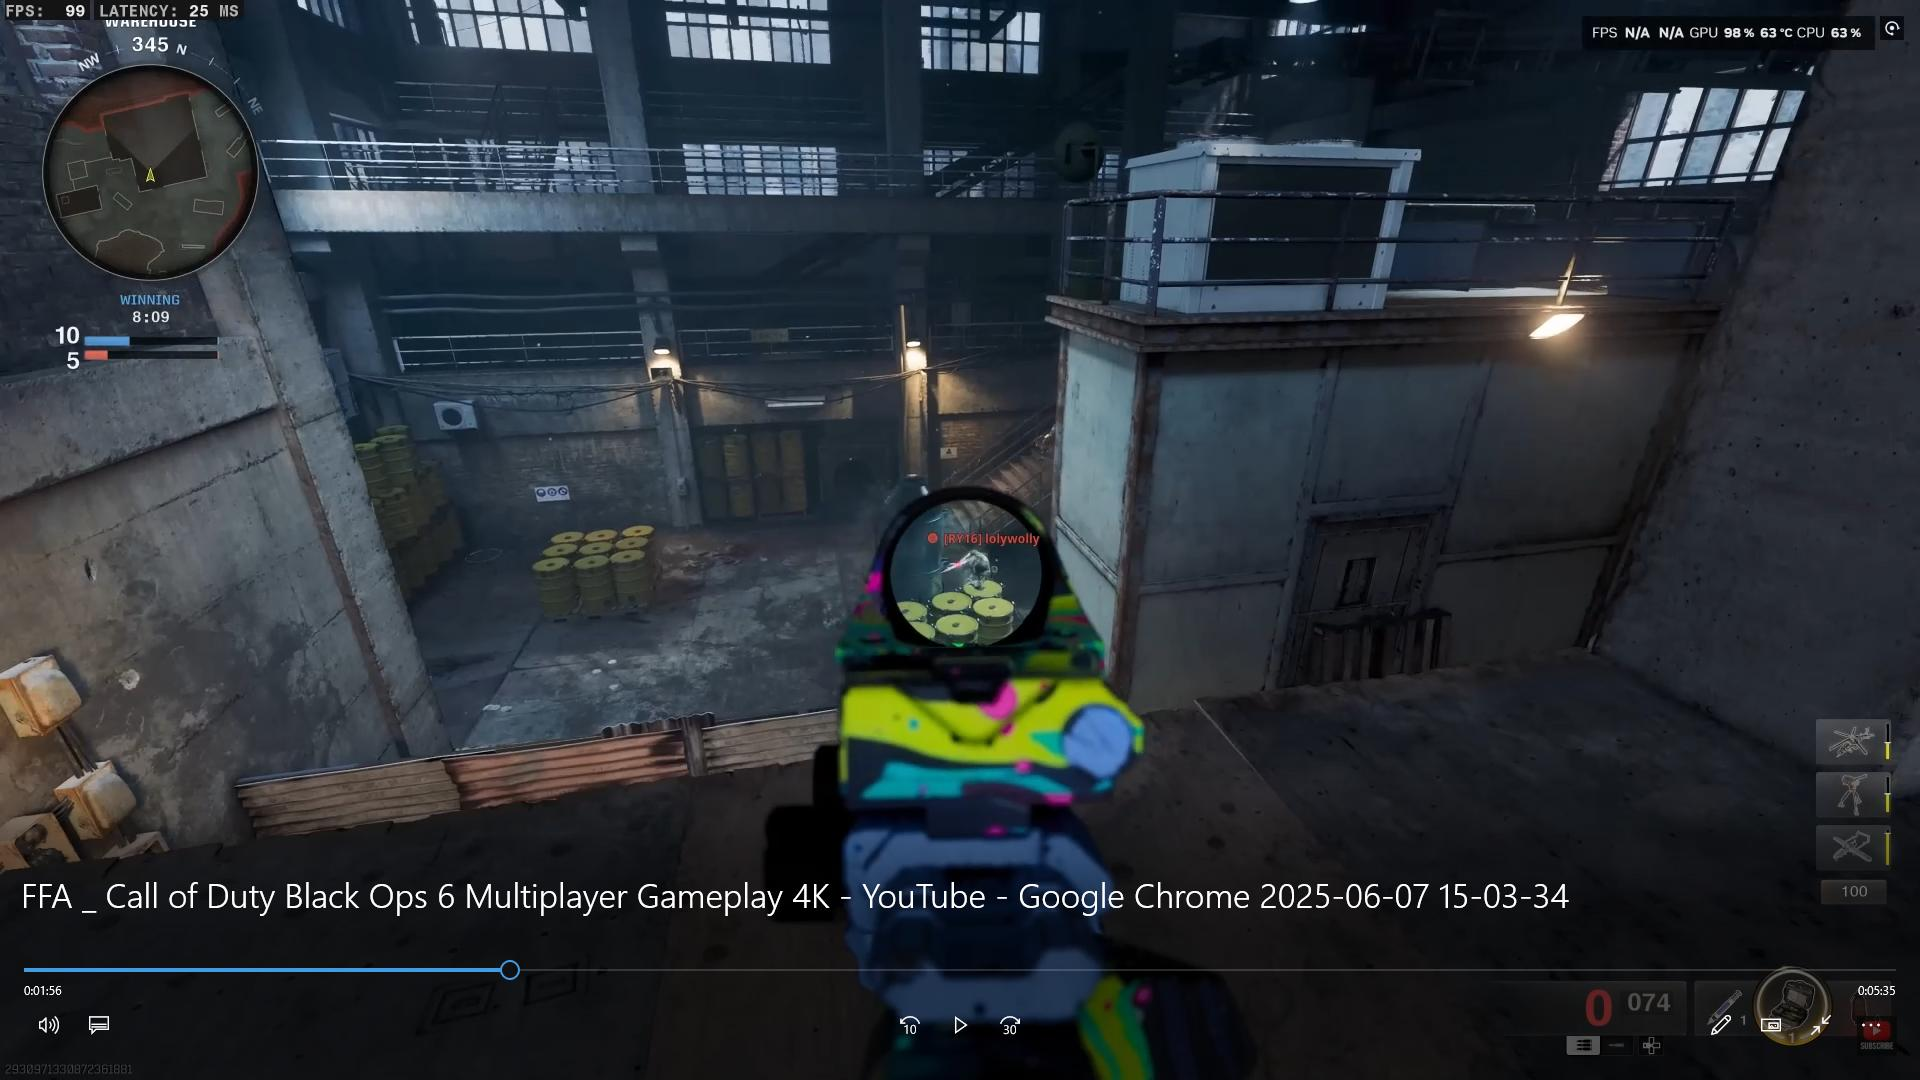Enemy: (943, 538, 998, 589)
